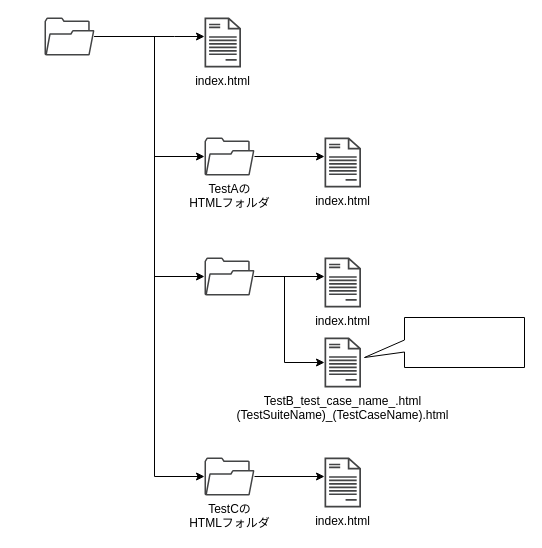
This 542x548 diagram has some shape labels left out. The box of each missing label's shape, as (x1, y1, x2, y2) in pixels:
Error report if the test case has been failed.: (364, 316, 524, 368)
HTML格納フォルダ (root): (44, 17, 94, 55)
TestBの HTMLフォルダ: (204, 257, 254, 295)
